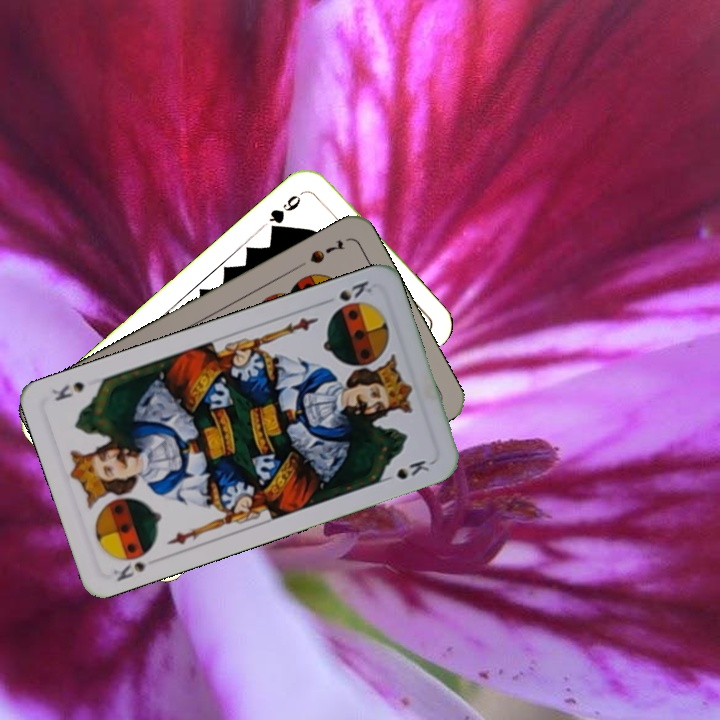G9: (264, 186, 309, 236)
S7: (305, 236, 347, 266)
SK: (109, 545, 156, 584), (334, 276, 375, 304)
